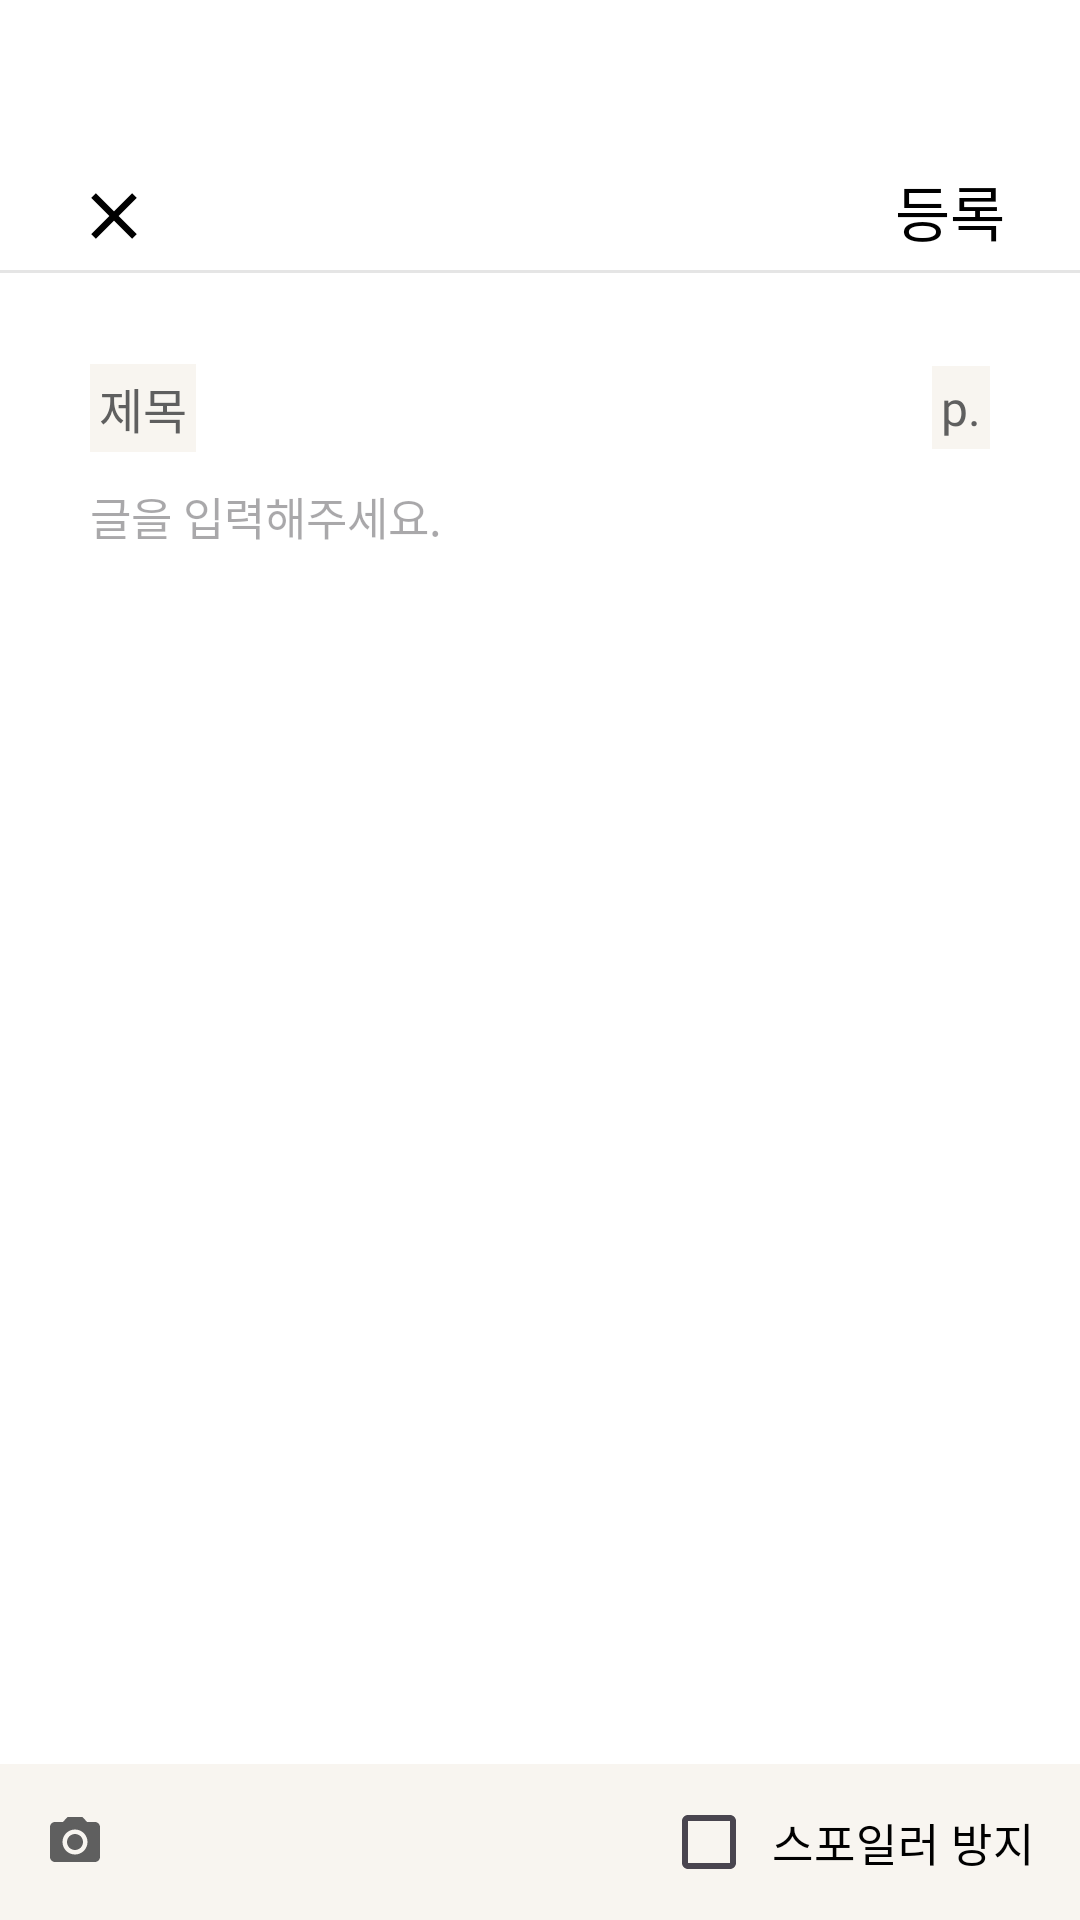

Where icons sit on this 1080x1920 app screen, as (x1, y1, x2, y2):
camera: (50, 1817, 100, 1862)
close: (91, 193, 137, 239)
